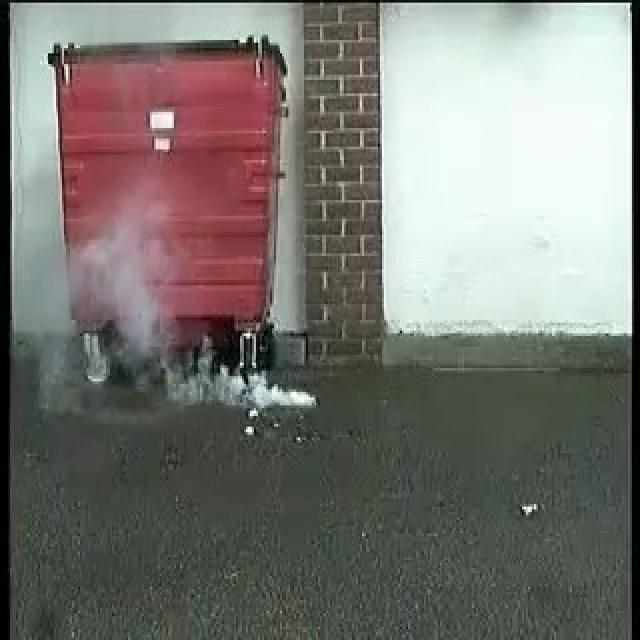smoke: (124, 306, 322, 411)
